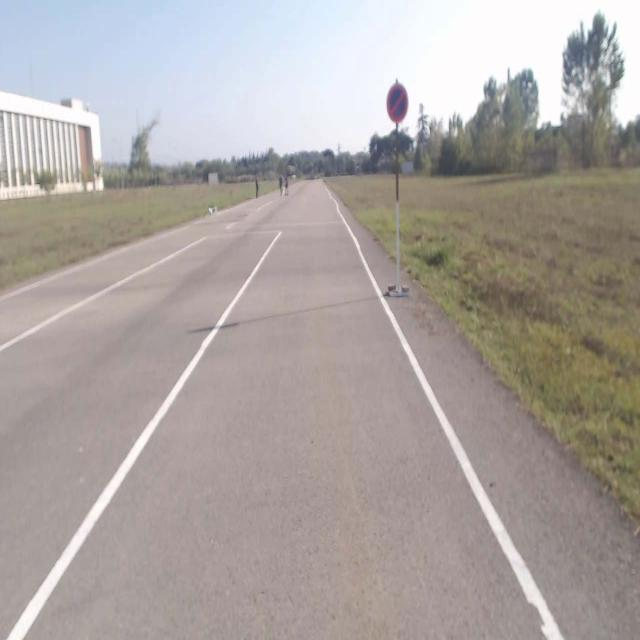parkyasak: (386, 82, 408, 122)
